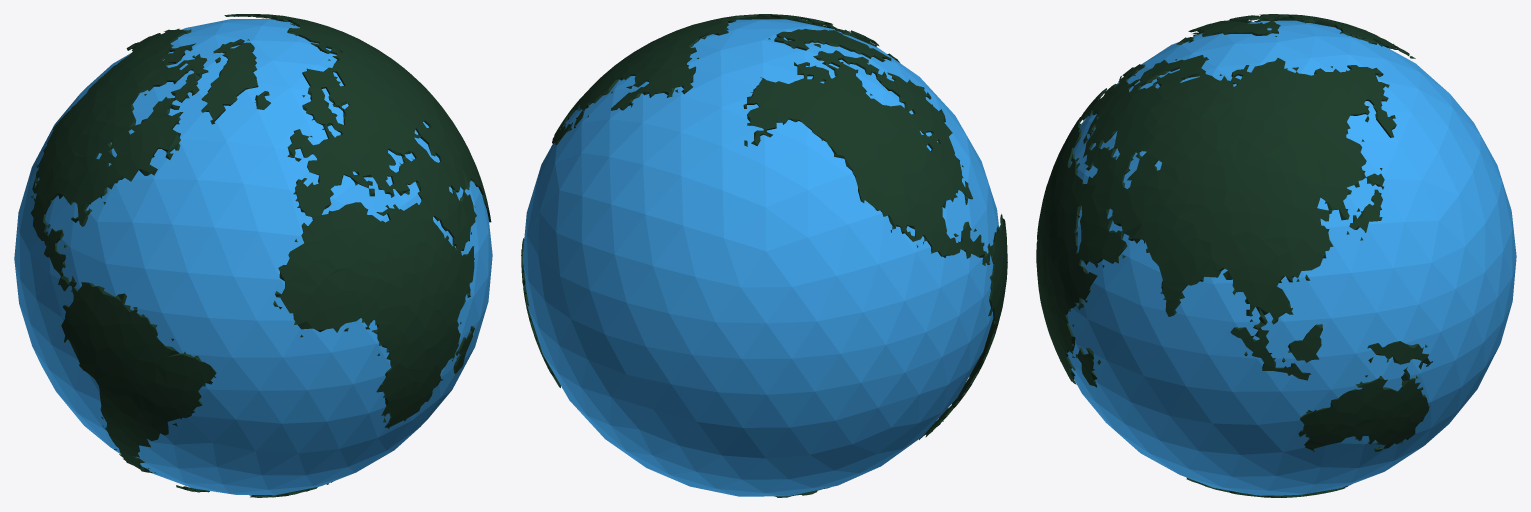
The model's file is Earth.FBX.
3 views of the same model, side by side, from view 1: azimuth 30°, elevation 25°; view 2: azimuth 150°, elevation 25°; view 3: azimuth 270°, elevation 25° (orthographic).
Parts seen in each view (by area): view 1: GeoSphere002, GeoSphere001; view 2: GeoSphere002, GeoSphere001; view 3: GeoSphere002, GeoSphere001.
Boxes of the visible parts, x1,y1,x2,y2 form: GeoSphere002: [14, 19, 492, 495]; GeoSphere001: [30, 14, 491, 497]; GeoSphere002: [522, 19, 998, 496]; GeoSphere001: [521, 14, 1007, 497]; GeoSphere002: [1067, 20, 1516, 495]; GeoSphere001: [1036, 14, 1432, 497].
Bounding box in the file's own units: 5.09 × 5.11 × 5.08.
